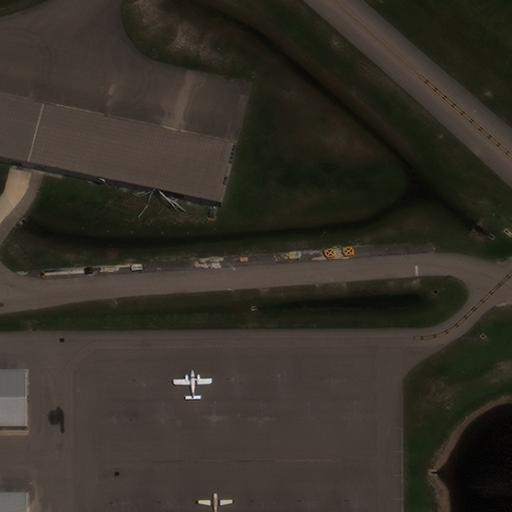Small Civil Transport: (173, 369, 211, 401), (197, 493, 232, 511)
